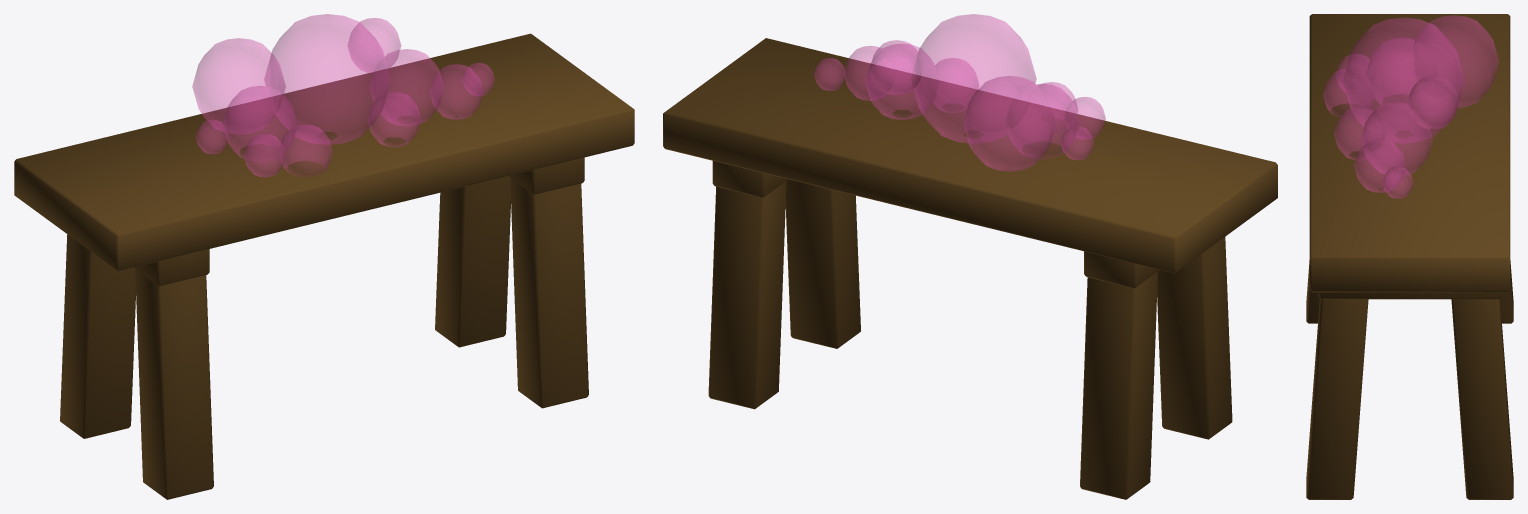
Rendered from balm.glb.
3 renders of one model, left to right at view 1: azimuth 30°, elevation 25°; view 2: azimuth 150°, elevation 25°; view 3: azimuth 270°, elevation 25°, orthographic. The views are drawn at different scales.
Parts seen in each view (by area): view 1: uploads_files_1960833_bench_02, Cloud_Night_Lowpoly.obj; view 2: uploads_files_1960833_bench_02, Cloud_Night_Lowpoly.obj; view 3: uploads_files_1960833_bench_02, Cloud_Night_Lowpoly.obj.
Part boxes in pixels (x1,y1,x2,y2): uploads_files_1960833_bench_02: (14,33,634,499); Cloud_Night_Lowpoly.obj: (192,14,494,176); uploads_files_1960833_bench_02: (663,38,1277,499); Cloud_Night_Lowpoly.obj: (814,14,1105,171); uploads_files_1960833_bench_02: (1306,14,1513,499); Cloud_Night_Lowpoly.obj: (1323,15,1498,198).
Size of the model in its own units: 3.03 by 2.18 by 1.09.
